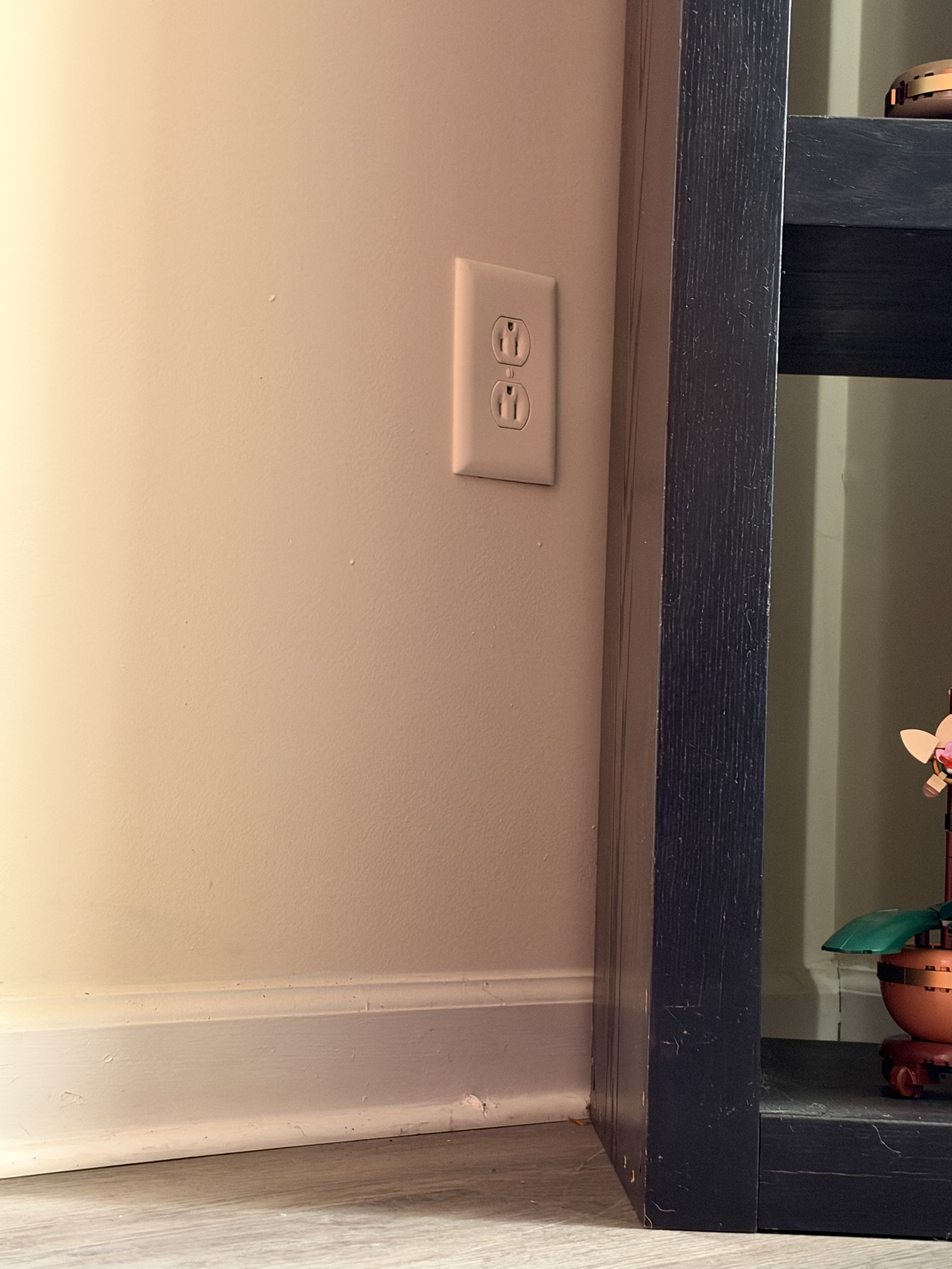outlet: (454, 257, 559, 480)
